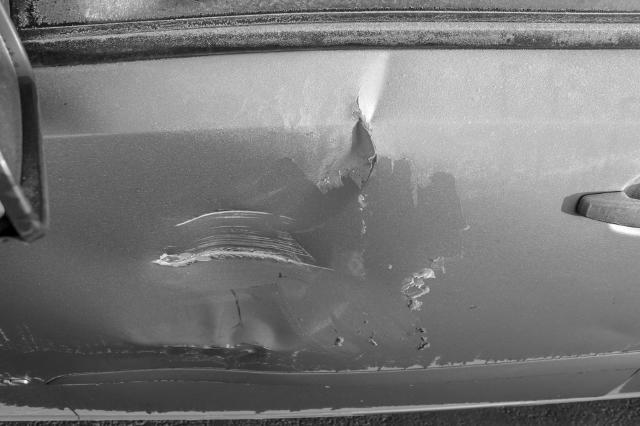Door: (52, 84, 556, 398)
